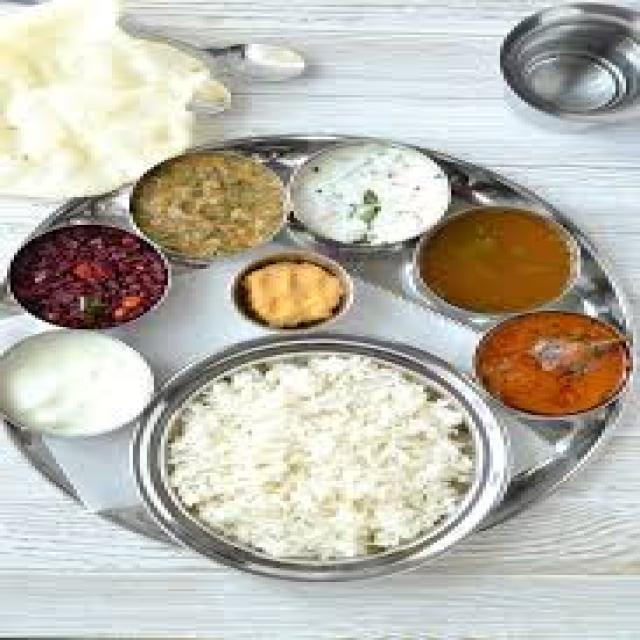curd: (1, 326, 159, 439)
dal: (407, 210, 588, 308)
papad: (0, 18, 209, 175)
raita: (4, 334, 162, 435)
rice: (174, 361, 472, 558), (287, 145, 456, 253)
sambar-rasam: (412, 204, 586, 311)
sweet: (237, 254, 356, 329)
veg-fry: (128, 156, 293, 258)
